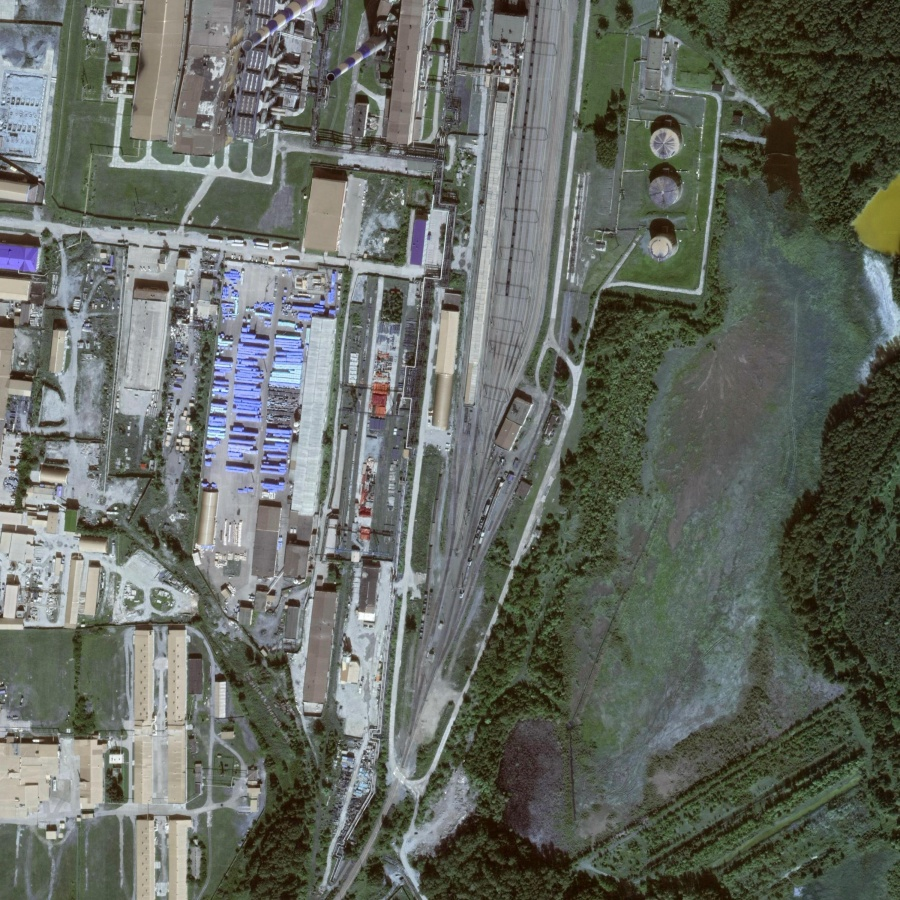PowerPlant: (571, 101, 719, 276)
